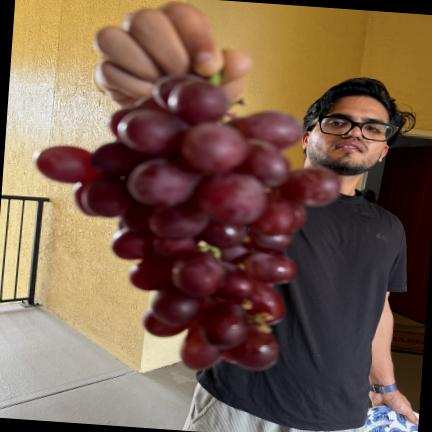grape_cluster: (35, 74, 339, 370)
